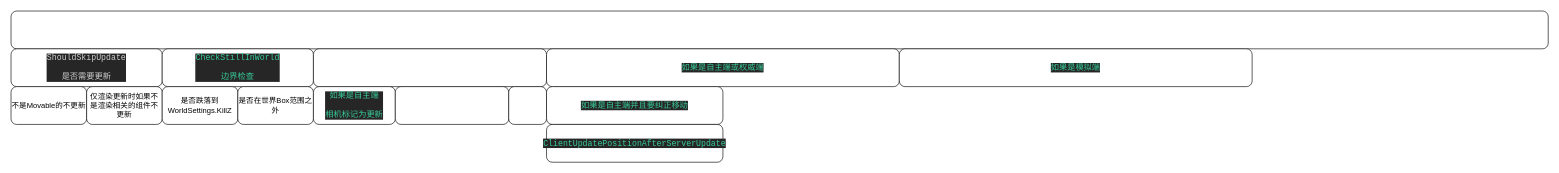
Image size: 1559x173. Some labels were removed from this diagram. Here are the shapes that lost their labels. From the top down, the centre of each, then its label:
(x=779, y=29): TickComponent
(x=430, y=67): 如果是物理模拟
(x=452, y=105): ClearAccumulatedForces 清理这一帧受到的外部影响
(x=527, y=105): return
